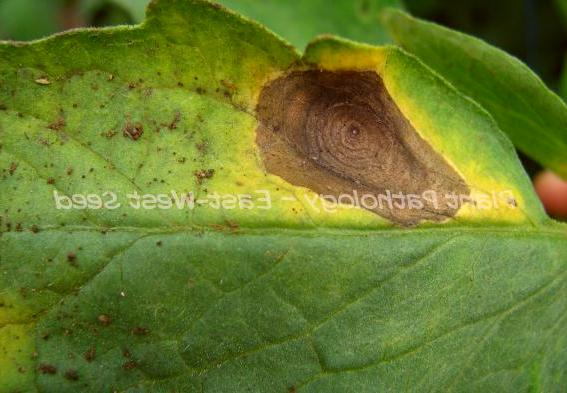Tomato Early blight leaf: (0, 24, 547, 250)
